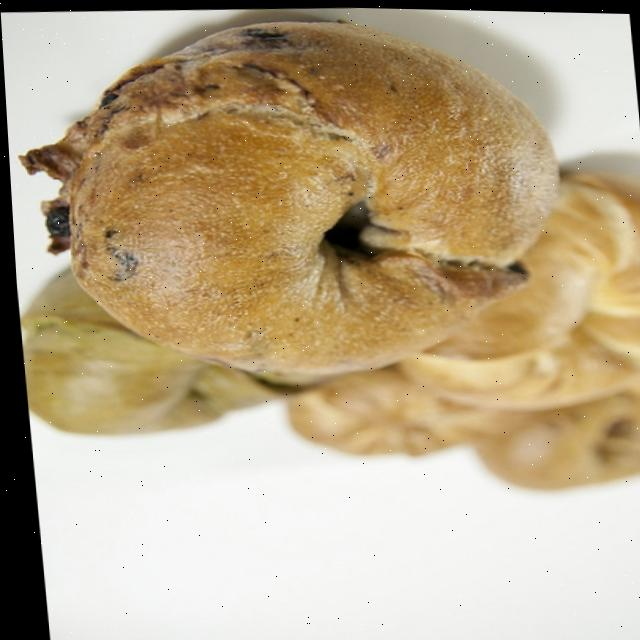面包点心: (1, 0, 585, 415)
